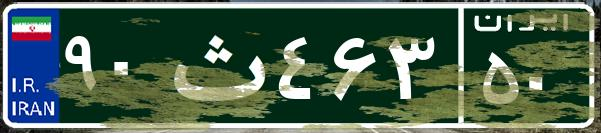0: (110, 28, 158, 105), (525, 38, 570, 115)
3: (385, 28, 445, 110)
4: (273, 28, 330, 110)
5: (475, 38, 525, 113)
6: (330, 28, 385, 110)
9: (57, 26, 110, 107)
ث: (158, 15, 273, 115)
